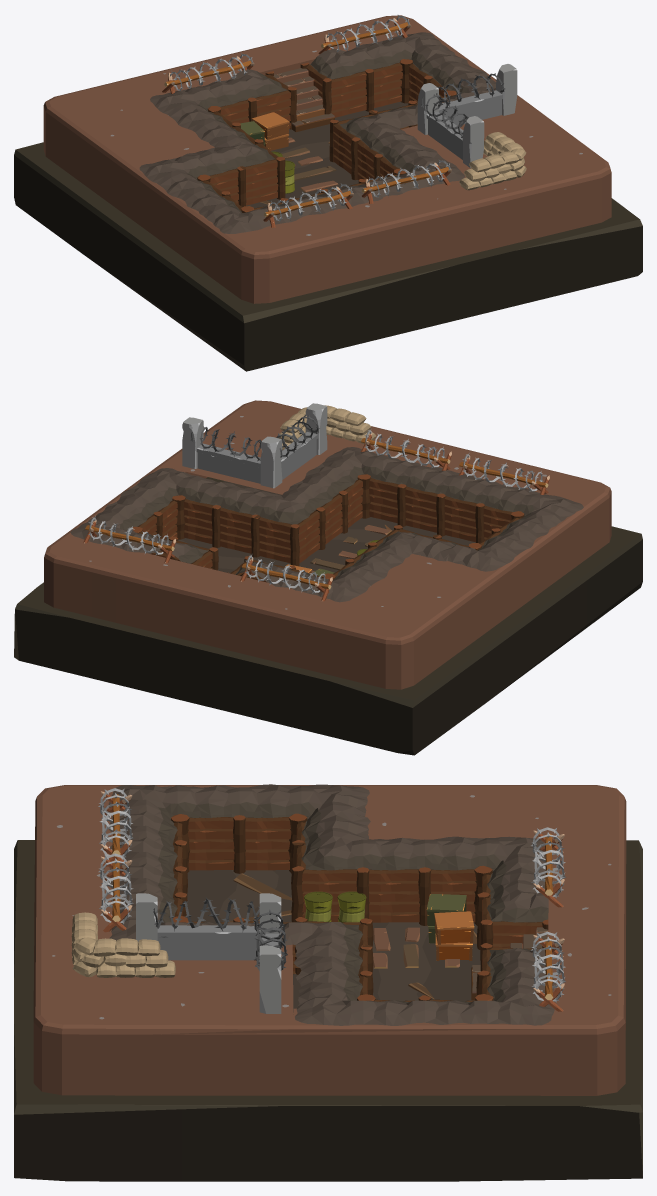
File: Stage007.fbx
3 views of the same model, one above another, from view 1: azimuth 30°, elevation 25°; view 2: azimuth 150°, elevation 25°; view 3: azimuth 270°, elevation 25° (orthographic). The views are drawn at different scales.
Visible parts, largest first — view 1: Stage007; view 2: Stage007; view 3: Stage007.
Boxes of the visible parts, bbox=[...] form: Stage007: bbox=[14, 15, 642, 371]; Stage007: bbox=[14, 400, 642, 755]; Stage007: bbox=[14, 784, 642, 1181].
Bounding box in the file's own units: 38.48 × 13.72 × 38.48.
Materials: 1 (1 with a texture image).
